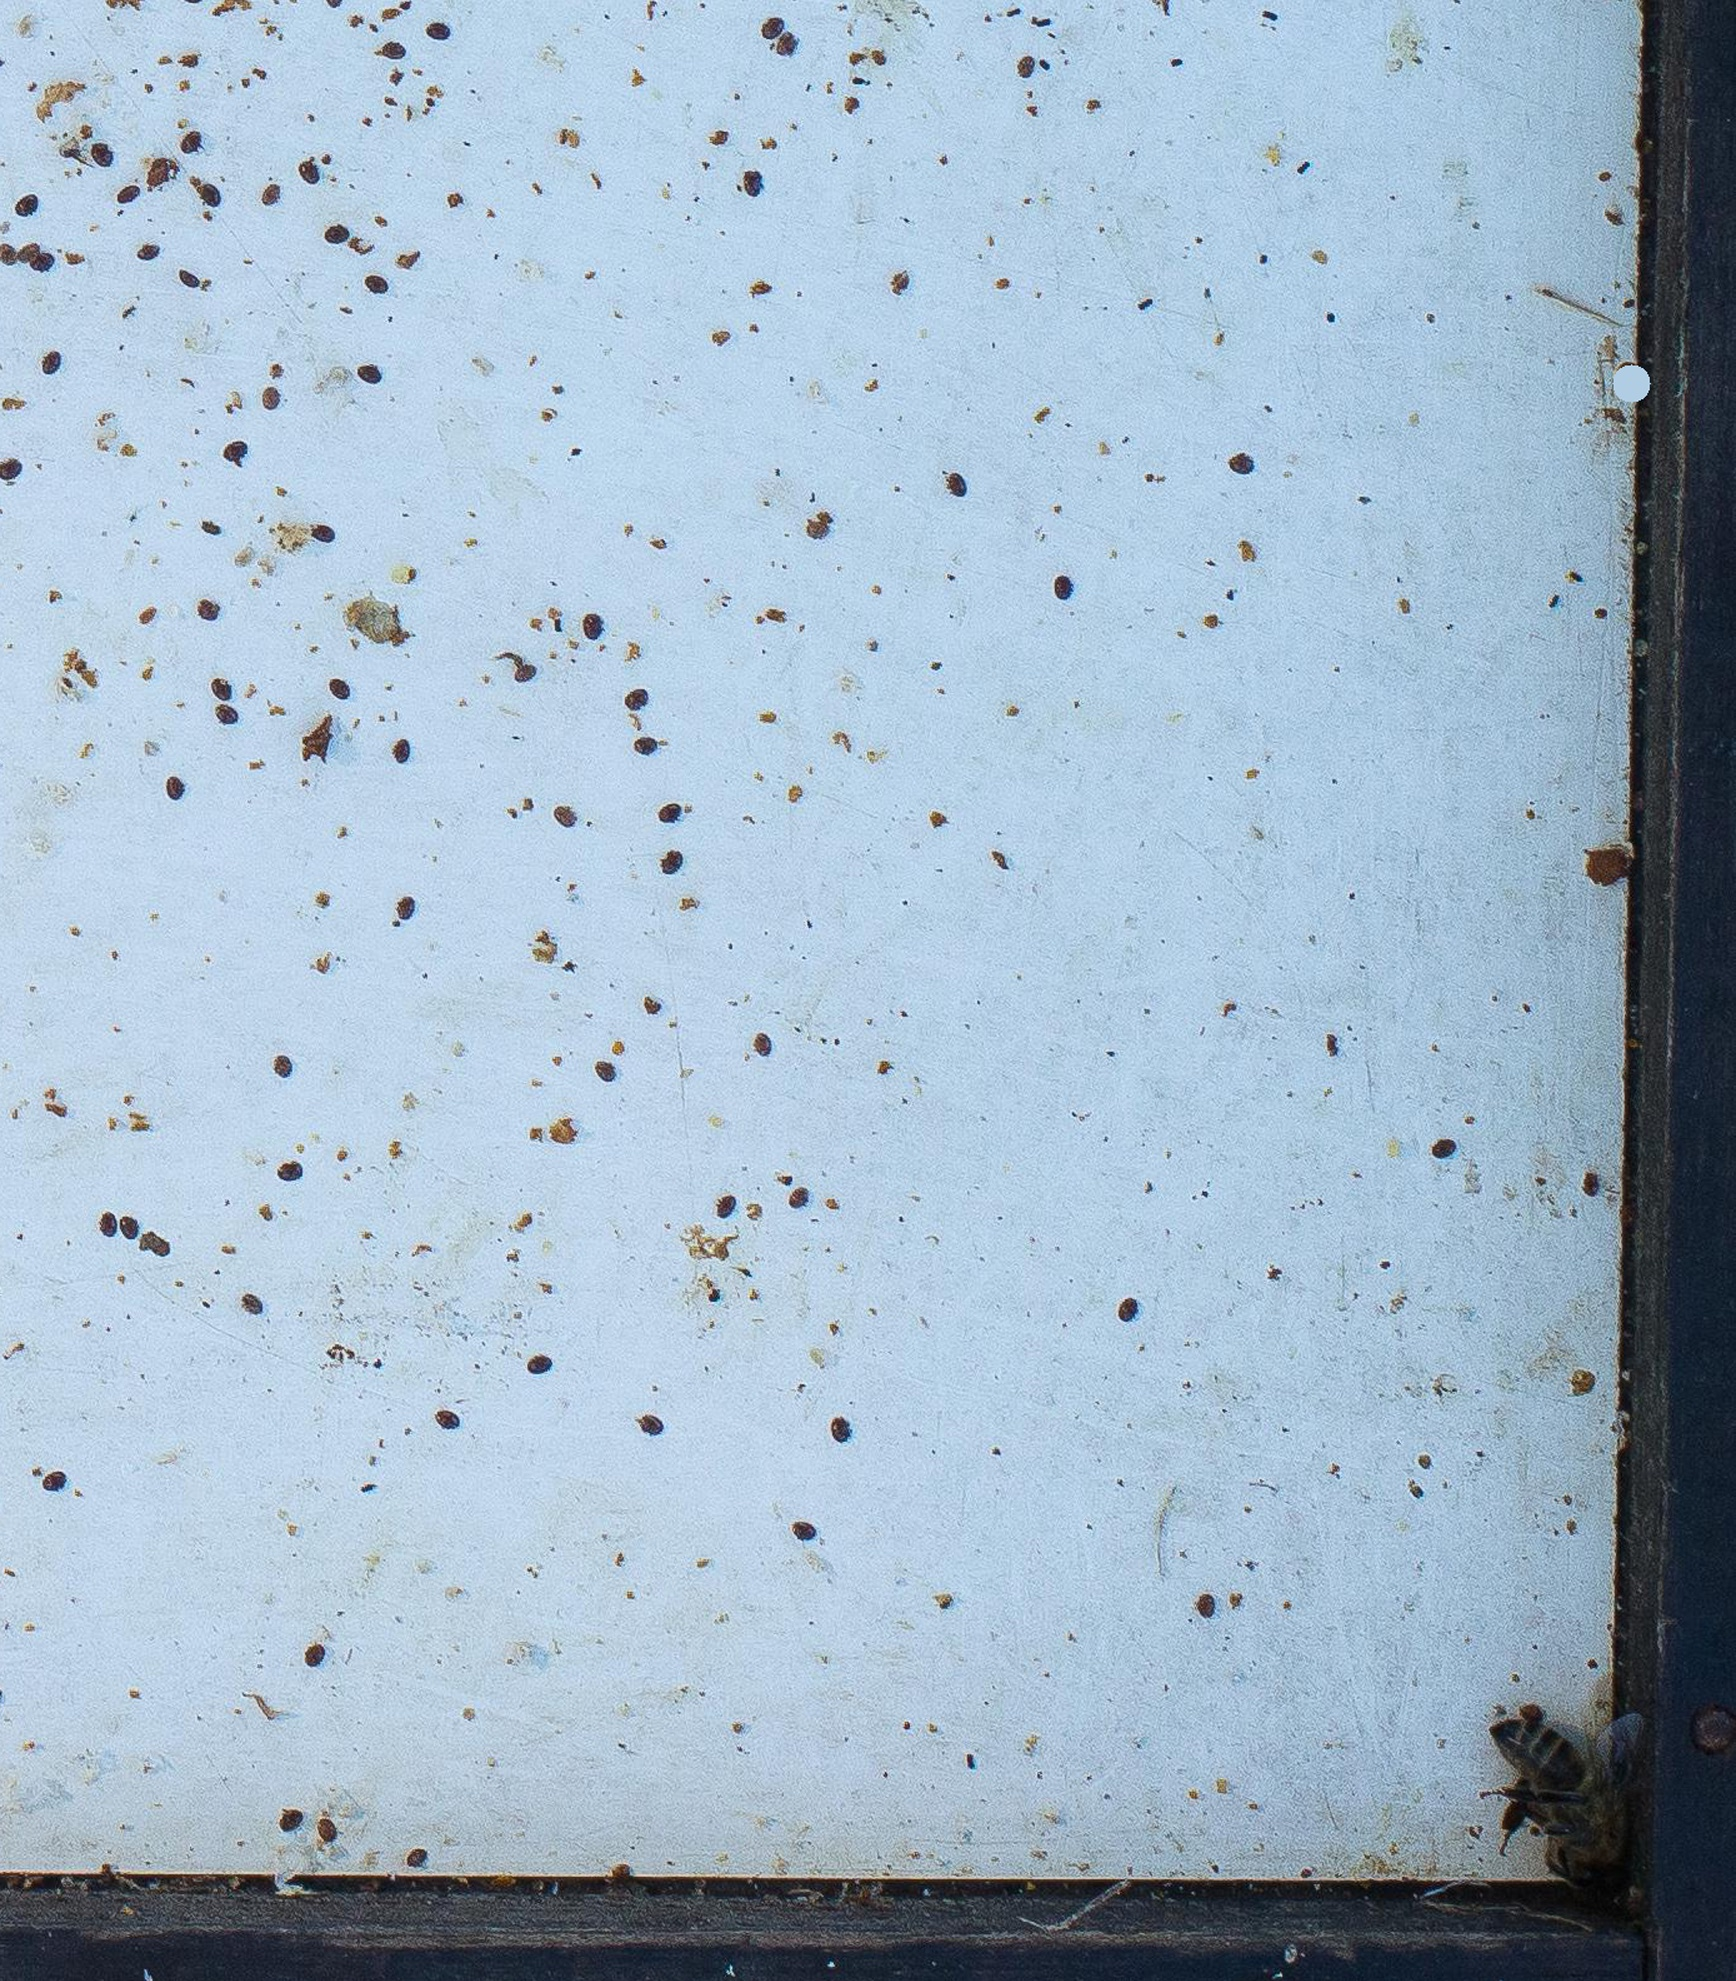Varroa: (731, 160, 775, 204), (167, 254, 210, 298), (205, 696, 249, 740), (370, 25, 413, 69), (751, 5, 795, 47), (1002, 44, 1046, 86), (251, 174, 295, 216), (170, 120, 212, 163), (25, 244, 67, 288), (621, 724, 665, 766), (648, 790, 690, 834), (202, 669, 246, 711), (706, 1184, 748, 1228), (86, 1201, 130, 1243), (769, 25, 812, 67), (290, 148, 332, 190), (190, 174, 232, 216), (104, 168, 146, 211), (8, 227, 51, 270), (505, 654, 547, 696), (386, 886, 428, 928), (140, 1228, 182, 1270), (111, 1204, 153, 1247), (396, 1838, 438, 1880), (269, 1797, 312, 1839), (795, 509, 835, 551), (310, 1806, 349, 1848), (350, 350, 389, 389), (221, 1297, 258, 1338), (636, 1400, 674, 1439), (610, 674, 647, 713), (519, 1361, 554, 1402), (588, 1048, 625, 1085), (83, 130, 120, 167), (10, 226, 47, 263), (1047, 566, 1083, 605), (786, 1508, 822, 1546), (438, 1403, 471, 1444), (236, 1280, 269, 1321), (1113, 1295, 1148, 1332), (512, 1339, 547, 1376), (12, 182, 49, 217), (217, 436, 253, 473), (264, 1049, 301, 1085), (350, 270, 386, 307), (37, 1472, 74, 1508), (1187, 1583, 1222, 1621), (306, 519, 342, 556), (253, 369, 286, 408), (34, 339, 69, 374), (323, 216, 359, 251), (94, 1208, 130, 1243), (1222, 441, 1259, 475), (120, 1209, 153, 1247), (940, 477, 973, 514), (783, 1179, 817, 1216), (1424, 1130, 1458, 1166), (273, 1149, 308, 1183), (423, 8, 456, 44), (381, 728, 414, 763), (741, 1029, 775, 1065), (822, 1408, 855, 1444), (293, 1632, 327, 1668), (652, 837, 685, 873), (133, 239, 167, 275), (157, 770, 190, 804), (325, 672, 359, 706), (197, 595, 231, 628), (572, 606, 604, 640), (205, 681, 239, 713), (758, 12, 790, 45), (551, 795, 571, 829)
